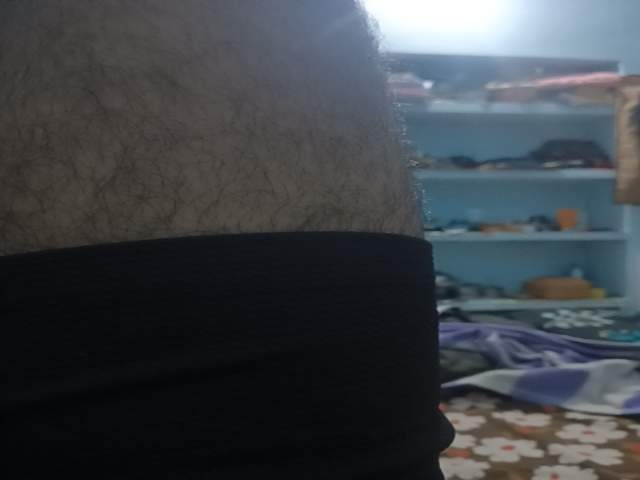pothole: (242, 357, 640, 480)
